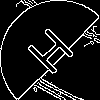H: (25, 25, 84, 83)
